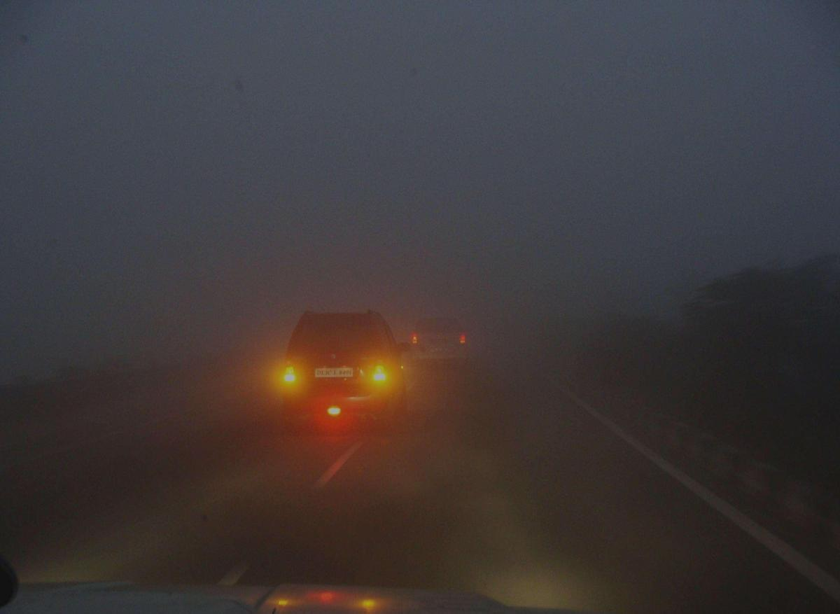car: (280, 308, 412, 431), (407, 317, 471, 369)
